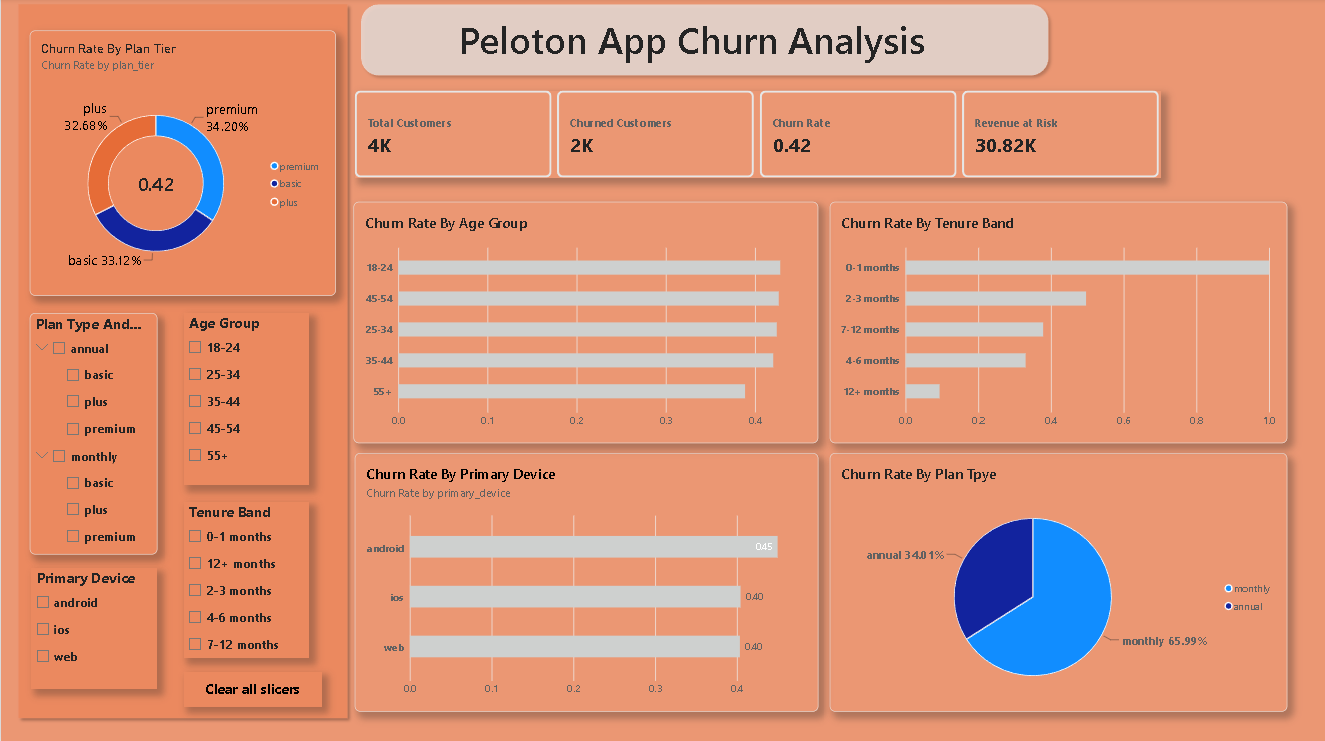

The dashboard page shown, as its layout file describes it:
{"tool":"powerbi","page":{"name":"Page 1","canvas":[1920,1080],"ordinal":0},"visuals":[{"type":"shape","box":[16.3,0,494,1051.4],"z":0},{"type":"shape","box":[512.1,0,1013.4,121.2],"z":1000,"group":"g1"},{"type":"cardVisual","fields":{"Data":["subscription.Total Customers","subscription.Churned Customers","subscription.Churn Rate","subscription.Revenue at Risk"]},"box":[512.1,133.9,1167.2,126.7],"z":1000},{"type":"pieChart","title":"Churn Rate By Plan Tpye","fields":{"Category":["subscription.plan_type","subscription.plan_tier"],"Y":["subscription.Churn Rate"]},"box":[1199.8,658.7,662.3,374.6],"z":2000},{"type":"clusteredBarChart","title":"Churn Rate By Primary Device","fields":{"Category":["subscription.primary_device"],"Y":["subscription.Churn Rate"]},"box":[512.1,658.7,671.4,374.6],"z":3000},{"type":"clusteredBarChart","title":"Churn Rate By Age Group","fields":{"Category":["subscription.age_group"],"Y":["subscription.Churn Rate"]},"box":[510.3,295,673.2,349.3],"z":4000},{"type":"clusteredBarChart","title":"Churn Rate By Tenure Band","fields":{"Category":["subscription.Tenure Band"],"Y":["subscription.Churn Rate"]},"box":[1199.8,295,662.3,349.3],"z":5000},{"type":"donutChart","title":"Churn Rate By Plan Tier","fields":{"Category":["subscription.plan_tier"],"Y":["subscription.Churn Rate"]},"box":[41.6,47.1,443.4,383.6],"z":6000},{"type":"group","id":"g1","title":"Group 1","box":[512.1,0,1013.4,173.7],"z":7000},{"type":"textbox","box":[662.3,23.5,796.3,150.2],"z":8000,"group":"g1"},{"type":"slicer","title":"Plan Type","fields":{"Values":["subscription.plan_type","subscription.plan_tier"]},"box":[41.6,456,184.6,349.3],"z":8000},{"type":"slicer","title":"Age Group","fields":{"Values":["subscription.age_group"]},"box":[264.2,456,182.8,249.7],"z":9000},{"type":"slicer","fields":{"Values":["subscription.Tenure Band"]},"box":[264.2,729.3,182.8,226.2],"z":10000},{"type":"slicer","title":"Primary Device","fields":{"Values":["subscription.primary_device"]},"box":[43.4,825.2,182.8,175.5],"z":11000},{"type":"actionButton","box":[264.2,975.4,200,50],"z":12000}]}

Visuals, with their boxes in screenshot pixels (x1, y1, x2, y2), scaled from the page's 1920x1080 canvas onto the 1325x741 screenshot:
shape: x1=11, y1=0, x2=352, y2=721
shape: x1=353, y1=0, x2=1053, y2=83
cardVisual - subscription.Total Customers x subscription.Churned Customers: x1=353, y1=92, x2=1159, y2=179
"Churn Rate By Plan Tpye" pieChart: x1=828, y1=452, x2=1285, y2=709
"Churn Rate By Primary Device" clusteredBarChart: x1=353, y1=452, x2=817, y2=709
"Churn Rate By Age Group" clusteredBarChart: x1=352, y1=202, x2=817, y2=442
"Churn Rate By Tenure Band" clusteredBarChart: x1=828, y1=202, x2=1285, y2=442
"Churn Rate By Plan Tier" donutChart: x1=29, y1=32, x2=335, y2=296
"Group 1" group: x1=353, y1=0, x2=1053, y2=119
textbox: x1=457, y1=16, x2=1007, y2=119
"Plan Type" slicer: x1=29, y1=313, x2=156, y2=553
"Age Group" slicer: x1=182, y1=313, x2=308, y2=484
slicer - subscription.Tenure Band: x1=182, y1=500, x2=308, y2=656
"Primary Device" slicer: x1=30, y1=566, x2=156, y2=687
actionButton: x1=182, y1=669, x2=320, y2=704
